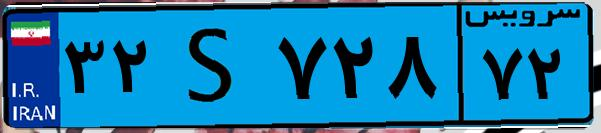2: (330, 28, 385, 110), (525, 38, 570, 115), (110, 28, 158, 98)
3: (57, 26, 110, 100)
7: (270, 28, 330, 110), (475, 38, 525, 113)
8: (385, 28, 445, 110)
S: (158, 12, 270, 120)
